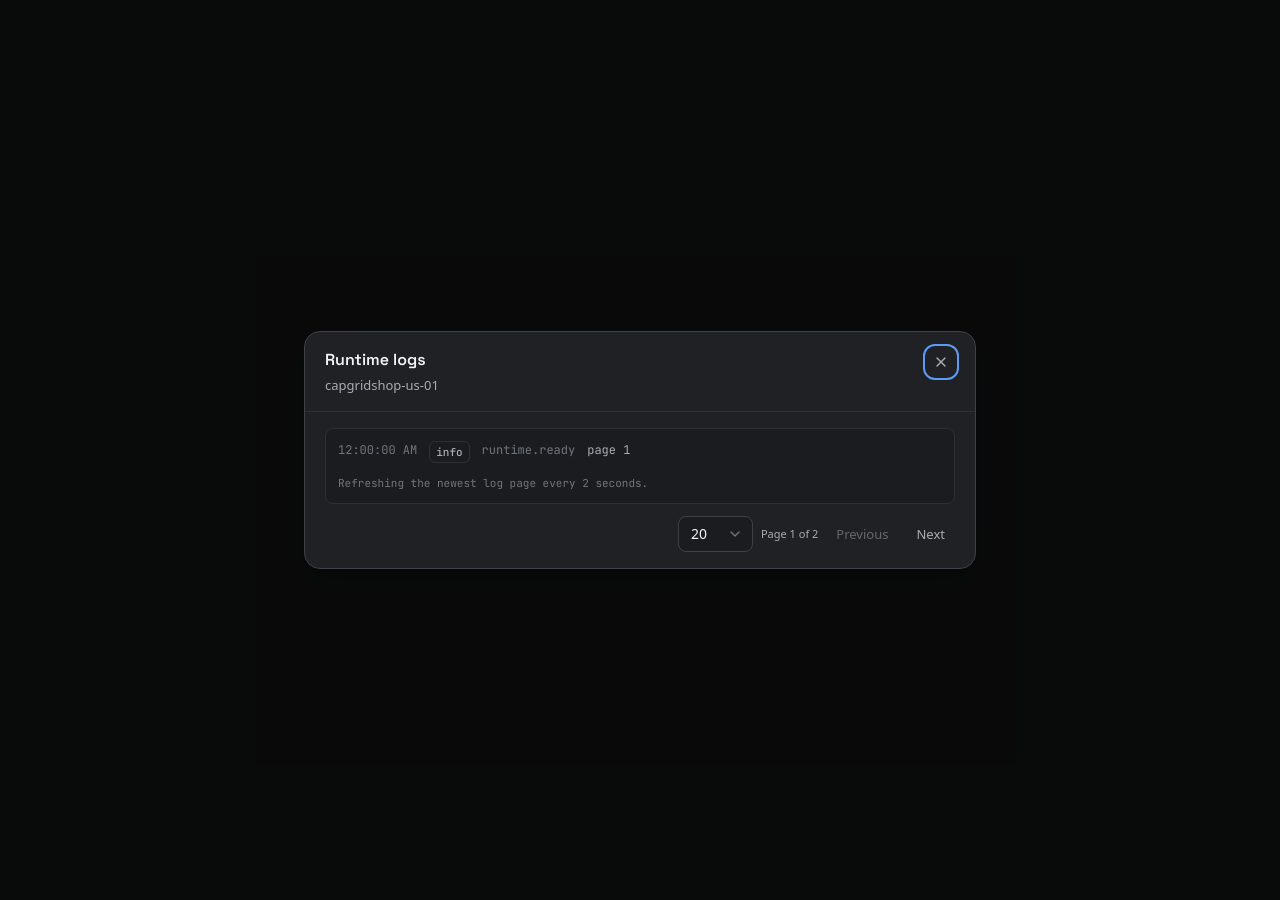
Test: ProfileDialogs › uses visible page controls and sends log pagination parameters
The width and height of the screenshot is (1280, 900).
expect the text "page 1" is shown: met, box x1=587 y1=441 x2=630 y2=463
Click the button with aria-label "next log page". click: (931, 534)
box: x1=906 y1=518 x2=955 y2=550
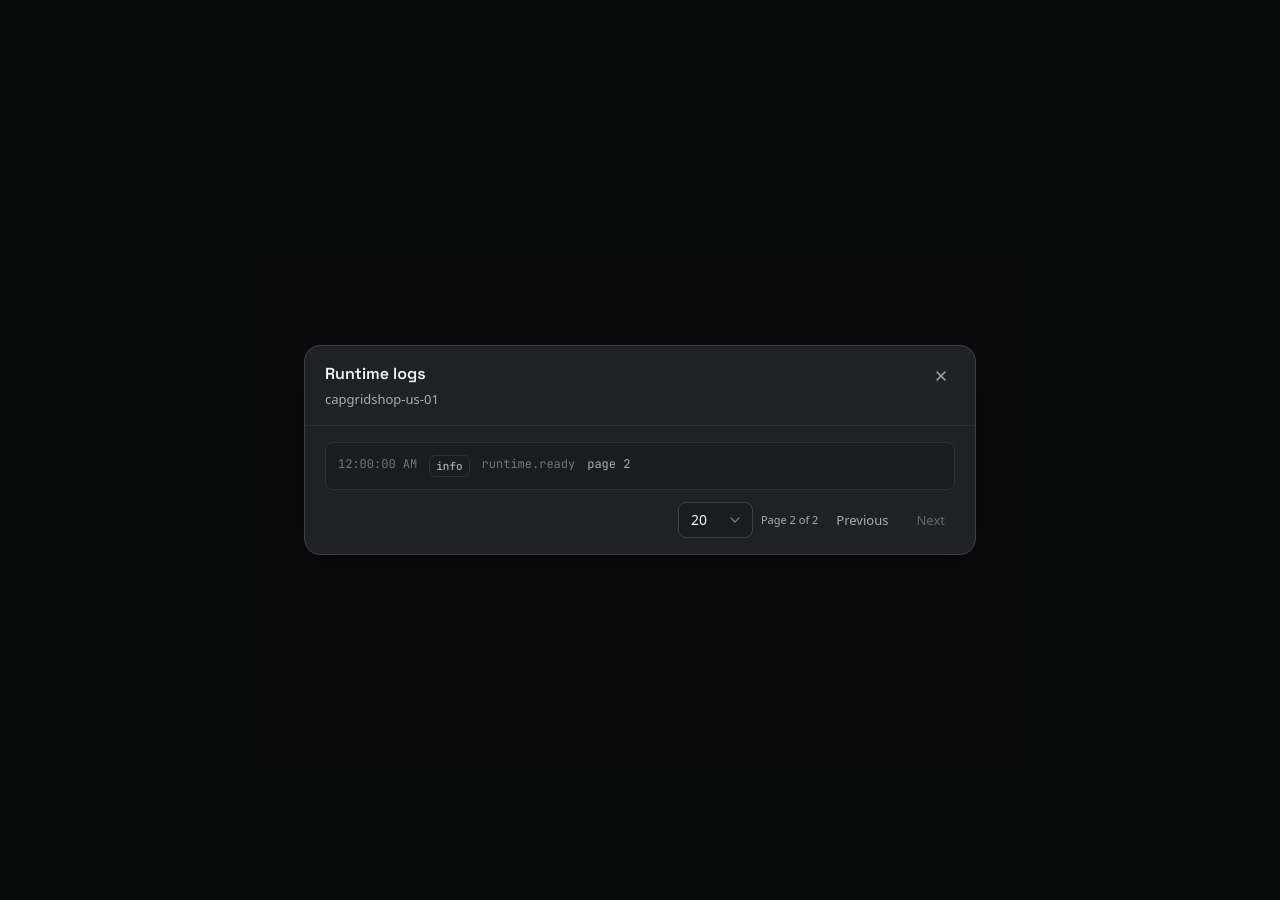
expect the text "page 2" is shown: met, box x1=587 y1=455 x2=630 y2=477
